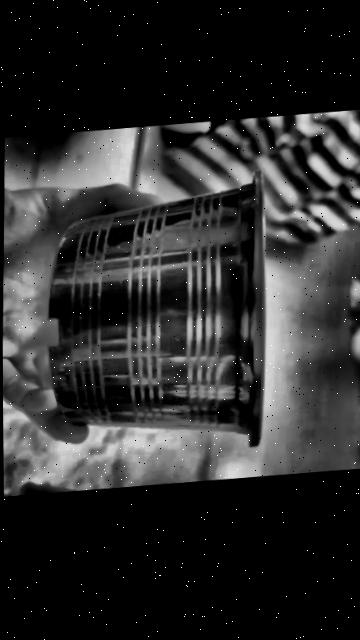pot: (49, 171, 264, 444)
